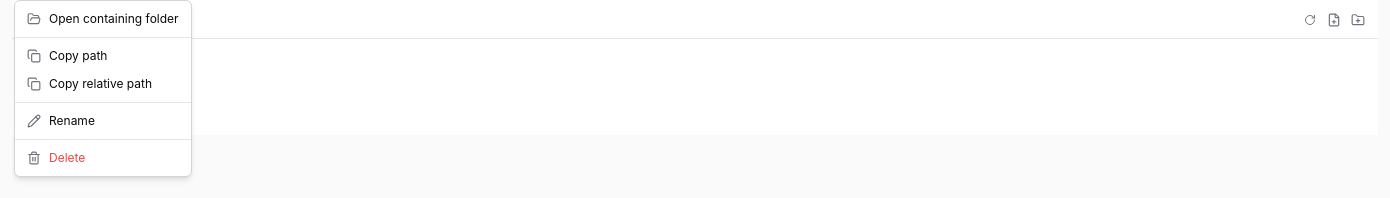
Test case: the context menu › renames through the fs bridge
Later steps or results of the test are not shown.
Expected: the menu is shown, left=14, top=0, right=192, bottom=177
Click the menu item "Rename".
click(61, 120)  # box left=27, top=113, right=95, bottom=128
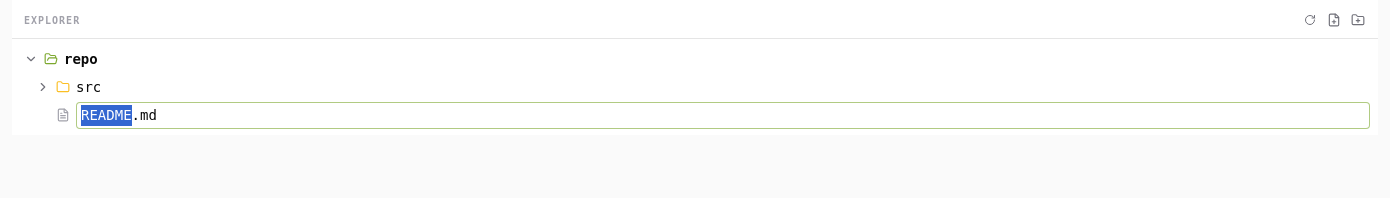
Clear the field showing "README.md" at (723, 115), box left=76, top=102, right=1370, bottom=128
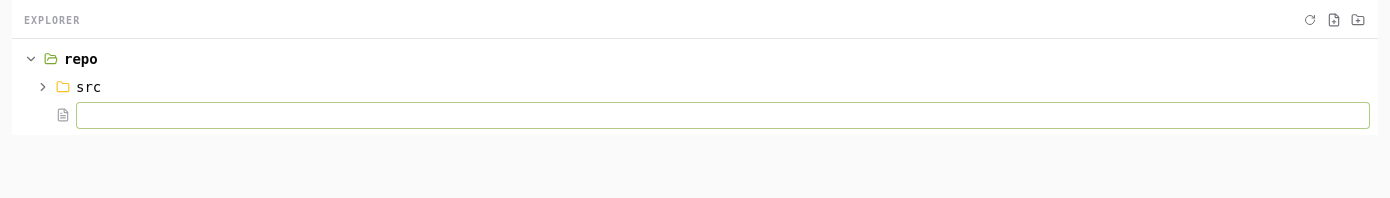
Type keys "DOCS.md"
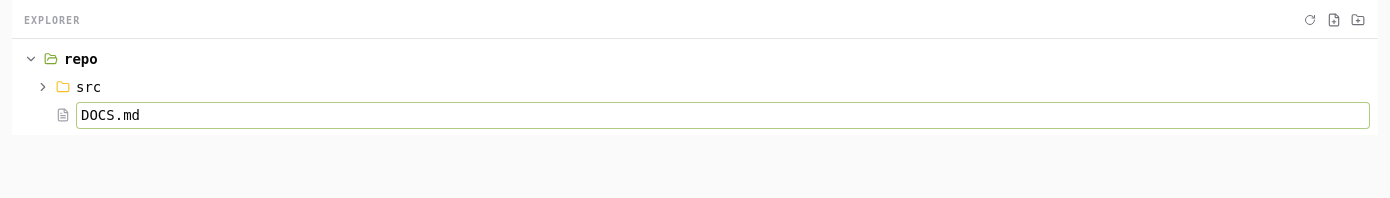
Result: the field showing "README.md" holds "DOCS.md" at left=76, top=102, right=1370, bottom=128
